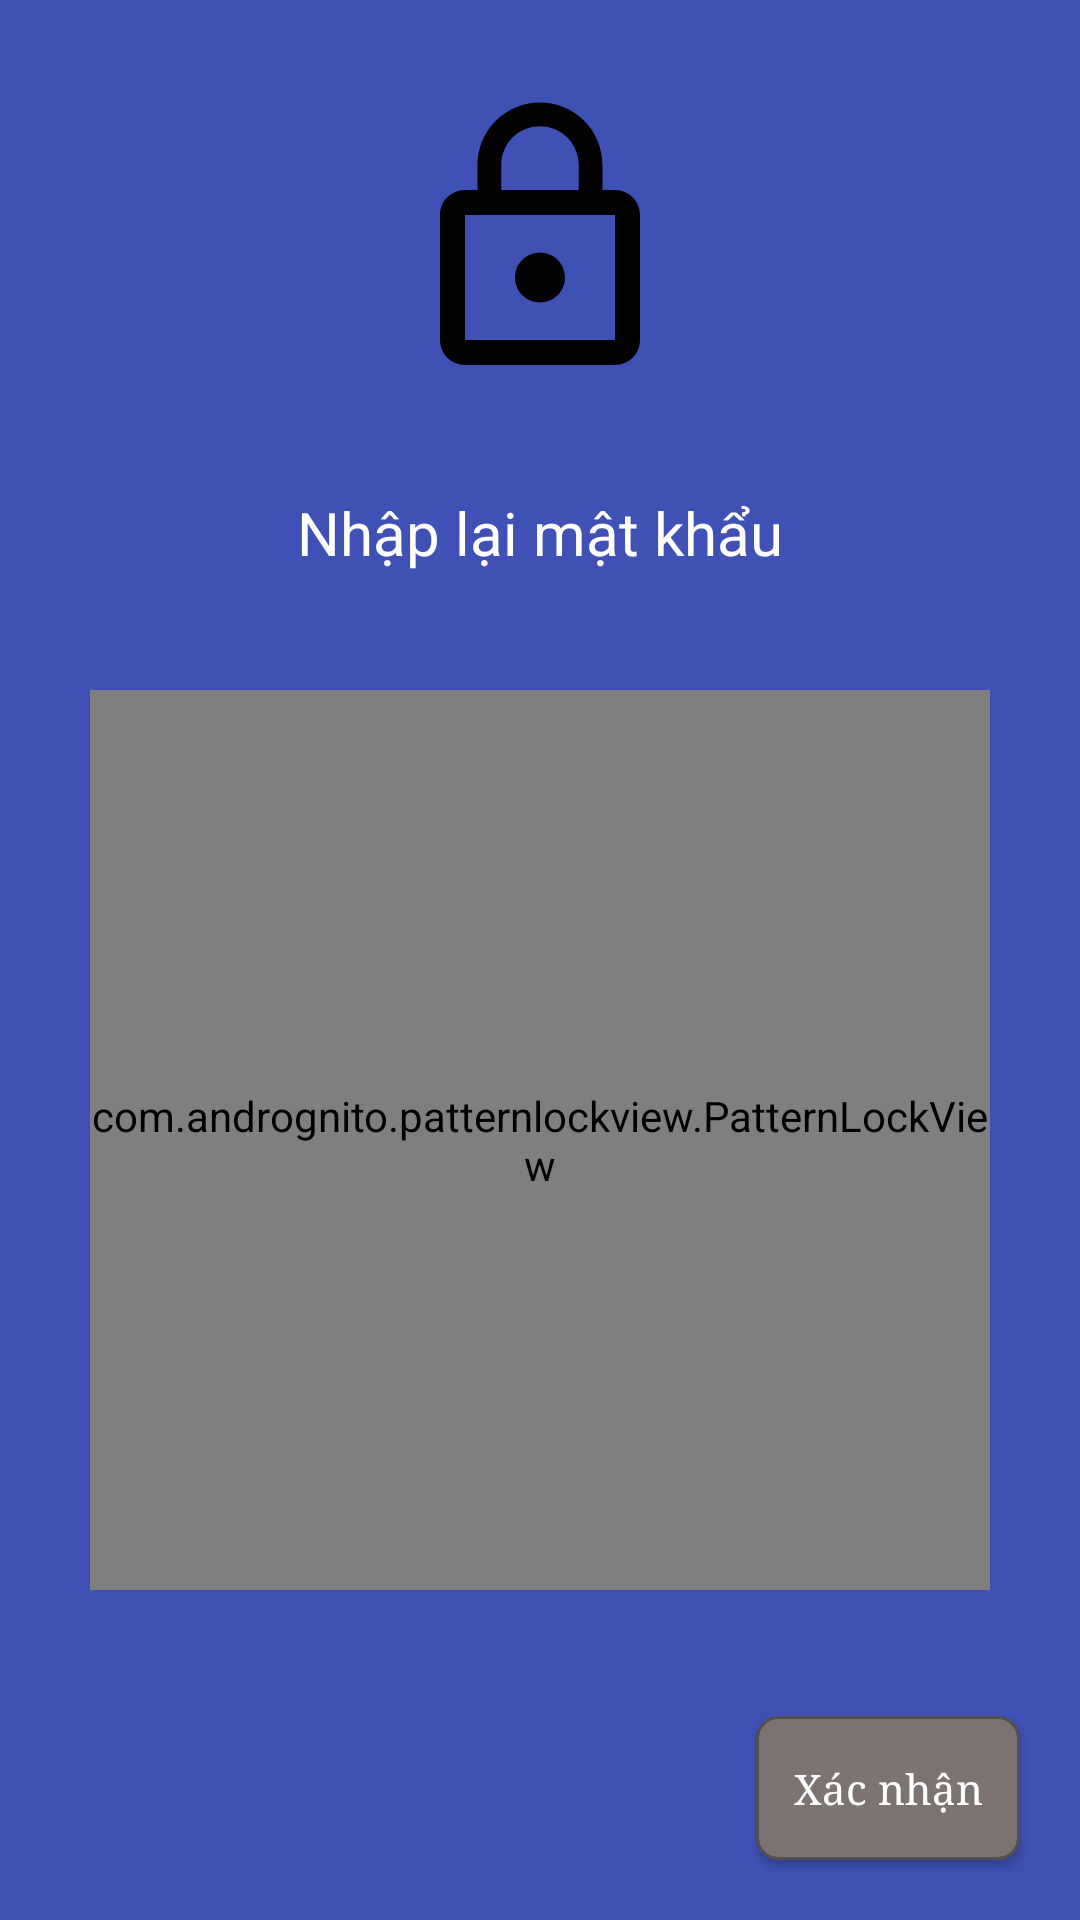

Screen size 1080px x 1920px. Icon name, then its box in pixels as (x1, y1, x2, y2):
lock: (440, 102, 640, 365)
